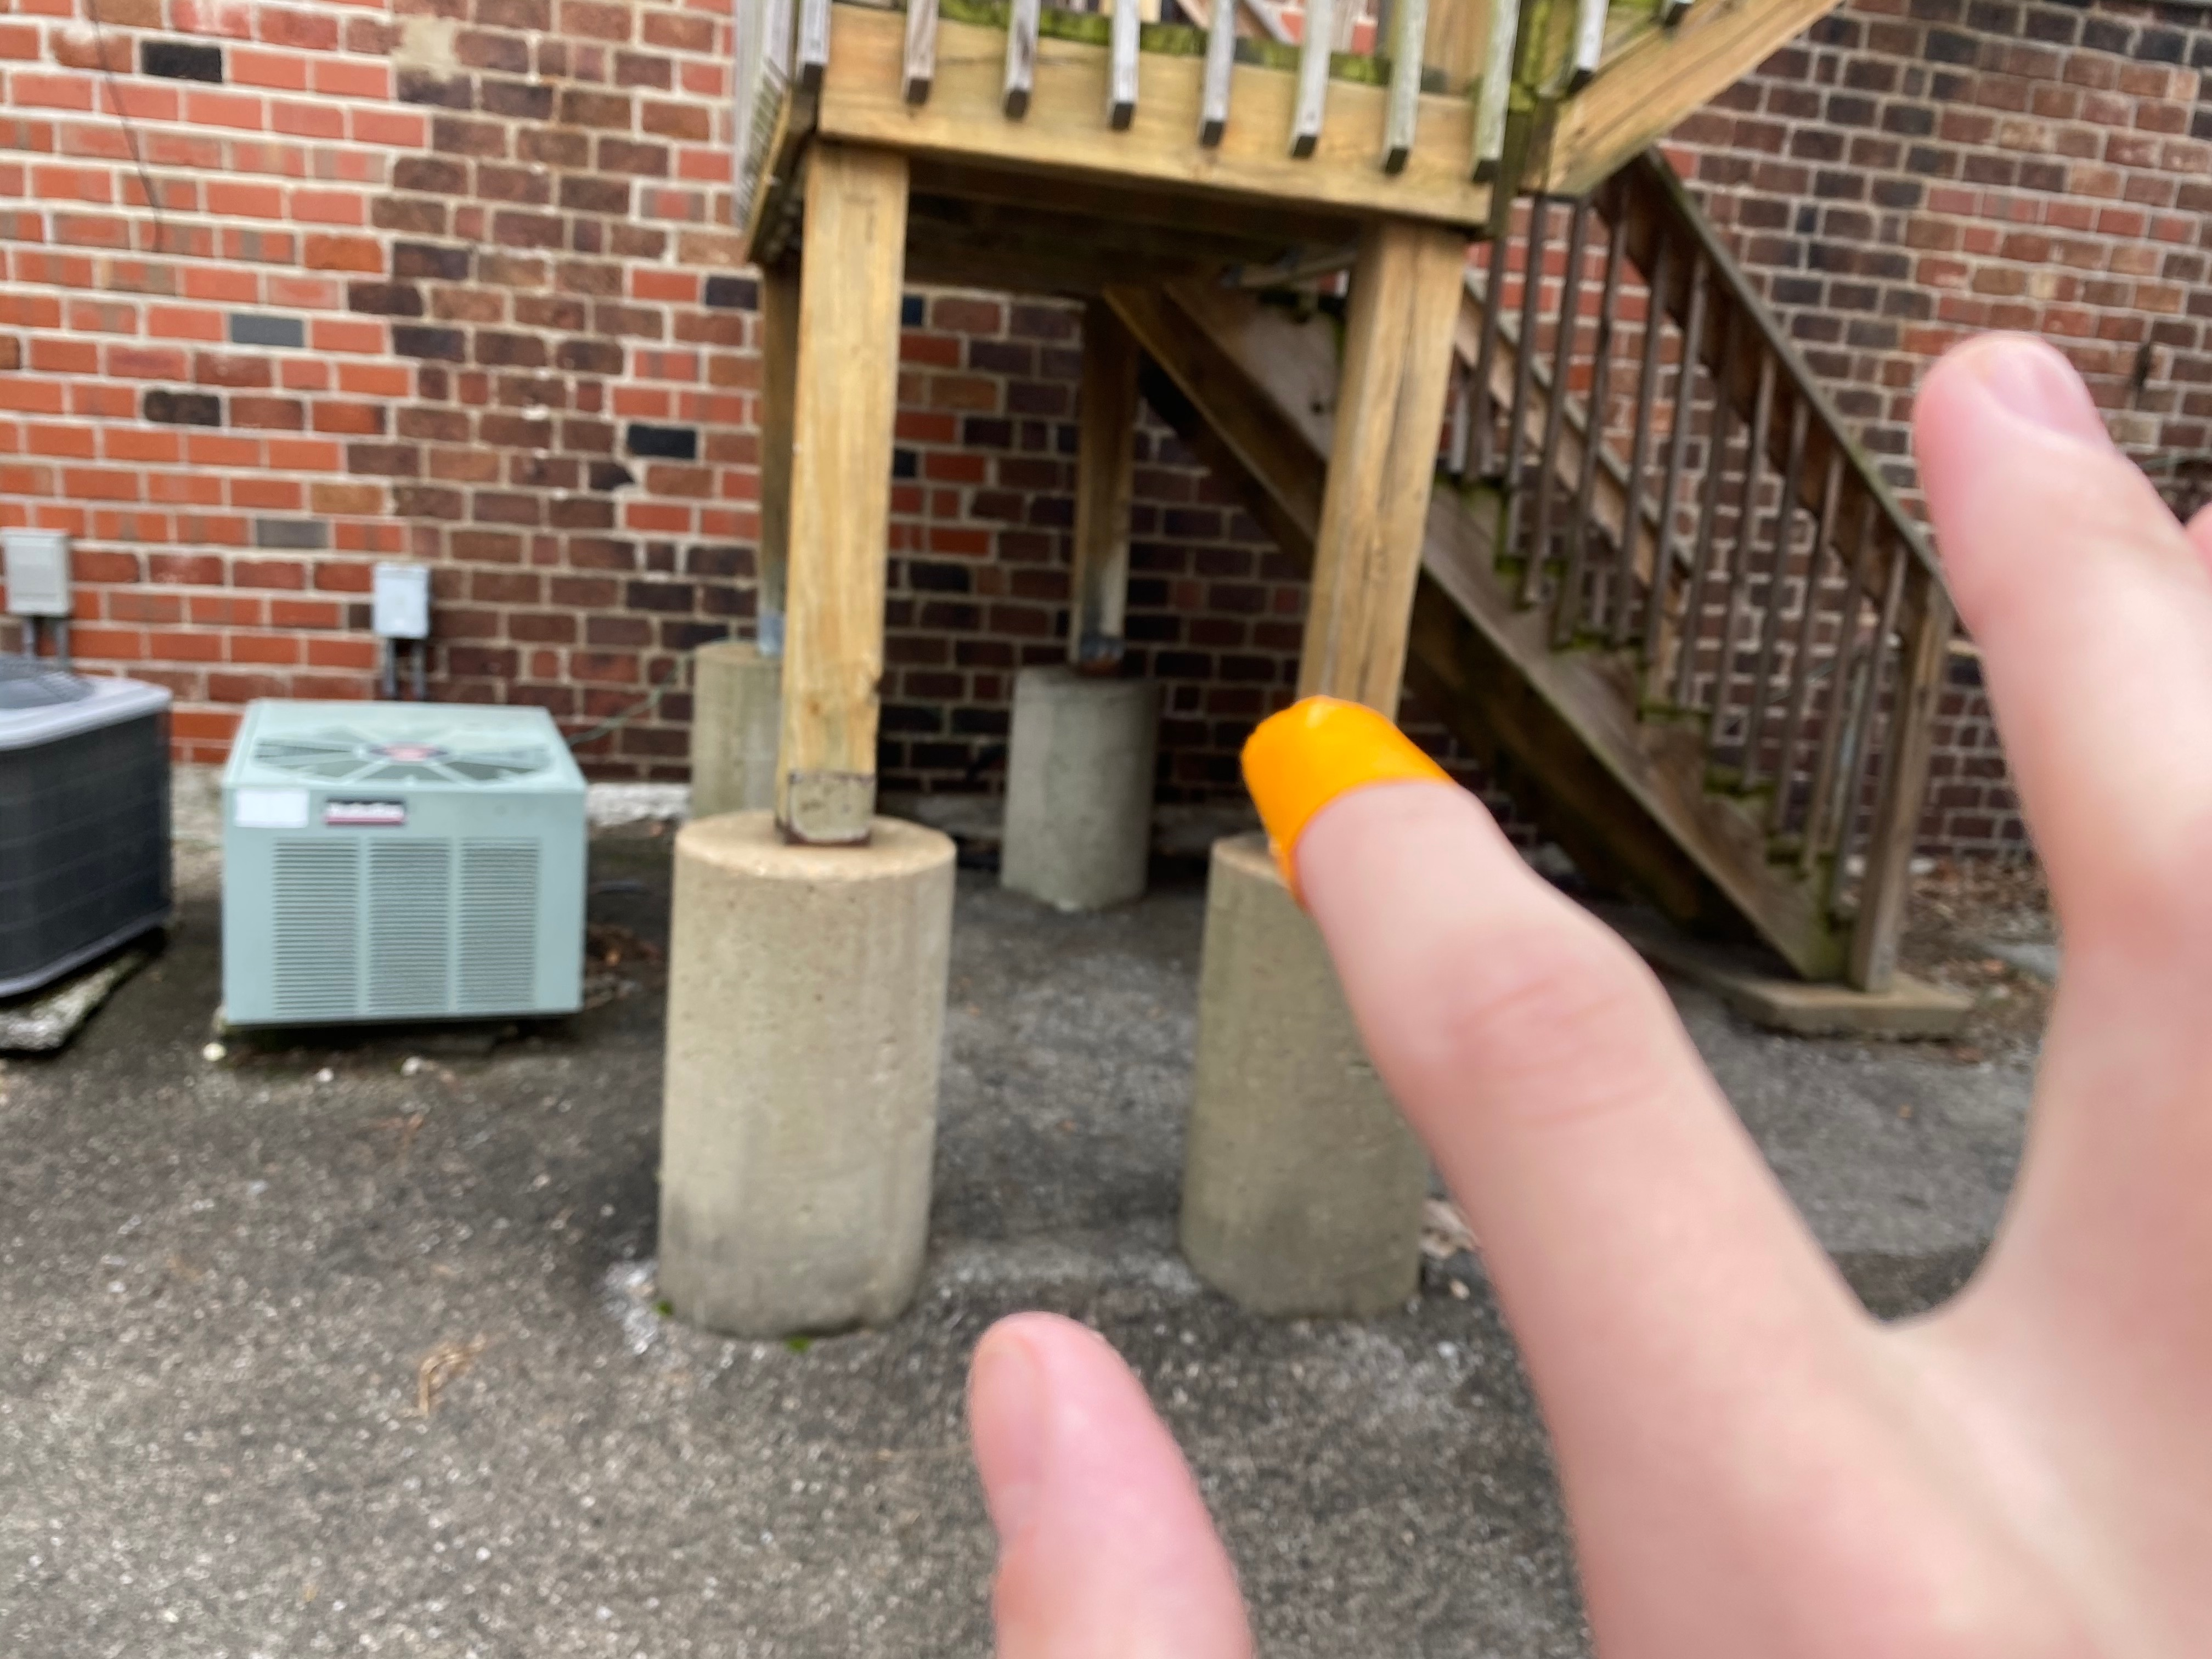fingertip: (1224, 687, 1444, 903)
